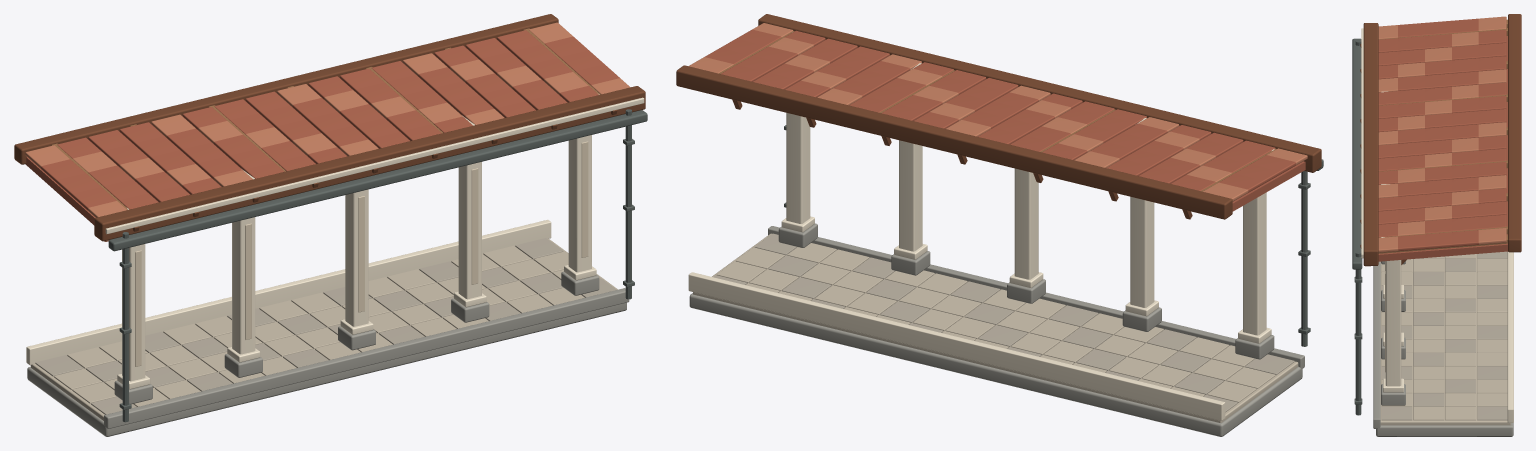
The model's file is Foot_Way__Walkway.fbx.
3 renders of one model, left to right at view 1: azimuth 30°, elevation 25°; view 2: azimuth 150°, elevation 25°; view 3: azimuth 270°, elevation 25°, orthographic. The views are drawn at different scales.
Visible parts, largest first — view 1: 13 - Front roof fascia beam, 04 - Street edge granite curb, 05 - Rear wall-side skirting, 24 - Front rain gutter, 12 - Rear wall roof ledger, 01 - Walkway concrete foundation, 20 - Fascia ivory moulding, 06 - Square heritage support column 03, 06 - Square heritage support column 04, 06 - Square heritage support column 05, 06 - Square heritage support column 02, 06 - Square heritage support column 01 (+33 smaller); view 2: 12 - Rear wall roof ledger, 05 - Rear wall-side skirting, 01 - Walkway concrete foundation, 13 - Front roof fascia beam, 06 - Square heritage support column 01, 04 - Street edge granite curb, 06 - Square heritage support column 02, 06 - Square heritage support column 05, 06 - Square heritage support column 03, 06 - Square heritage support column 04, 02 - Raised tiled pedestrian pavement, 25 - Rainwater downpipe (+44 smaller); view 3: 13 - Front roof fascia beam, 12 - Rear wall roof ledger, 24 - Front rain gutter, 06 - Square heritage support column 05, 02 - Raised tiled pedestrian pavement, 01 - Walkway concrete foundation, 17 - Solid sloping terracotta canopy roof, 04 - Street edge granite curb, 05 - Rear wall-side skirting, 25 - Rainwater downpipe.001, 20 - Fascia ivory moulding, 03 - Individual walkway floor tile.045 (+129 smaller).
Part boxes in pixels (x1=…): 13 - Front roof fascia beam: x1=94, y1=86, x2=645, y2=241; 04 - Street edge granite curb: x1=104, y1=288, x2=629, y2=428; 05 - Rear wall-side skirting: x1=26, y1=219, x2=551, y2=365; 24 - Front rain gutter: x1=108, y1=110, x2=647, y2=251; 12 - Rear wall roof ledger: x1=14, y1=14, x2=558, y2=164; 01 - Walkway concrete foundation: x1=27, y1=302, x2=626, y2=436; 20 - Fascia ivory moulding: x1=105, y1=97, x2=644, y2=234; 06 - Square heritage support column 03: x1=345, y1=189, x2=368, y2=326; 06 - Square heritage support column 04: x1=458, y1=162, x2=481, y2=299; 06 - Square heritage support column 05: x1=568, y1=135, x2=591, y2=272; 06 - Square heritage support column 02: x1=232, y1=217, x2=255, y2=354; 06 - Square heritage support column 01: x1=122, y1=244, x2=145, y2=381; 12 - Rear wall roof ledger: x1=676, y1=65, x2=1232, y2=219; 05 - Rear wall-side skirting: x1=688, y1=272, x2=1225, y2=420; 01 - Walkway concrete foundation: x1=689, y1=293, x2=1302, y2=436; 13 - Front roof fascia beam: x1=758, y1=14, x2=1321, y2=172; 06 - Square heritage support column 01: x1=1243, y1=192, x2=1266, y2=335; 04 - Street edge granite curb: x1=768, y1=226, x2=1304, y2=368; 06 - Square heritage support column 02: x1=1130, y1=196, x2=1154, y2=307; 06 - Square heritage support column 05: x1=786, y1=113, x2=810, y2=223; 06 - Square heritage support column 03: x1=1014, y1=168, x2=1038, y2=279; 06 - Square heritage support column 04: x1=899, y1=140, x2=922, y2=251; 02 - Raised tiled pedestrian pavement: x1=693, y1=233, x2=1298, y2=422; 25 - Rainwater downpipe: x1=1301, y1=171, x2=1307, y2=346; 13 - Front roof fascia beam: x1=1363, y1=23, x2=1378, y2=265; 12 - Rear wall roof ledger: x1=1508, y1=14, x2=1521, y2=252; 24 - Front rain gutter: x1=1352, y1=38, x2=1362, y2=269; 06 - Square heritage support column 05: x1=1385, y1=260, x2=1401, y2=386; 02 - Raised tiled pedestrian pavement: x1=1380, y1=254, x2=1510, y2=425; 01 - Walkway concrete foundation: x1=1376, y1=423, x2=1513, y2=436; 17 - Solid sloping terracotta canopy roof: x1=1378, y1=36, x2=1507, y2=261; 04 - Street edge granite curb: x1=1373, y1=261, x2=1380, y2=428; 05 - Rear wall-side skirting: x1=1507, y1=252, x2=1513, y2=422; 25 - Rainwater downpipe.001: x1=1355, y1=251, x2=1361, y2=415; 20 - Fascia ivory moulding: x1=1361, y1=28, x2=1363, y2=258; 03 - Individual walkway floor tile.045: x1=1413, y1=352, x2=1444, y2=366.
Bounding box in the file's own units: 865 × 356 × 271.
